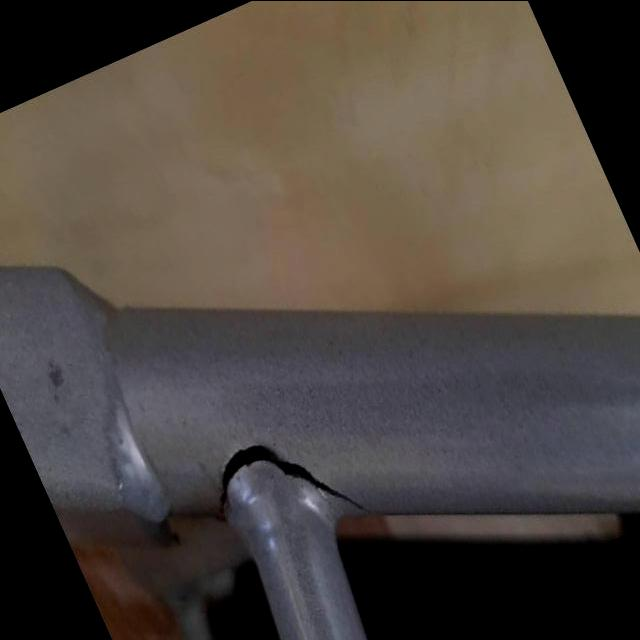defect: (209, 441, 376, 530)
